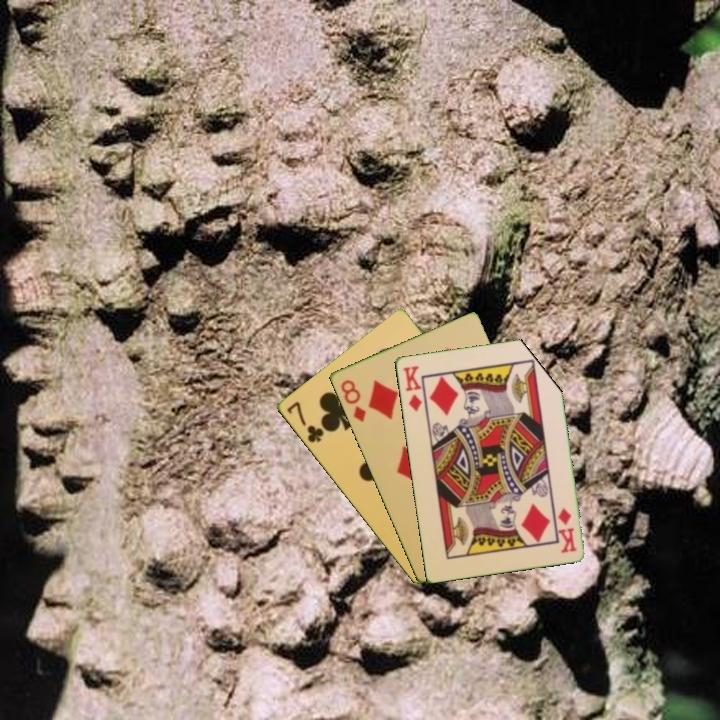7c: (283, 398, 326, 446)
8d: (337, 376, 368, 425)
Kd: (399, 362, 424, 414), (554, 504, 579, 555)
